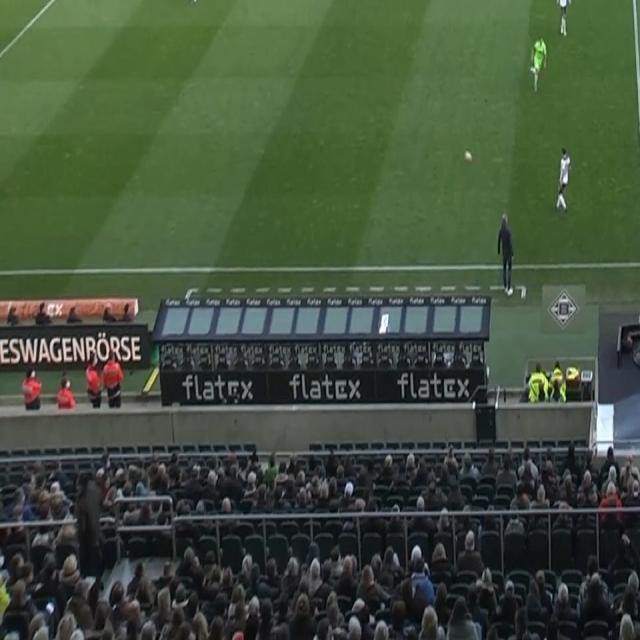ball: (464, 148, 473, 164)
